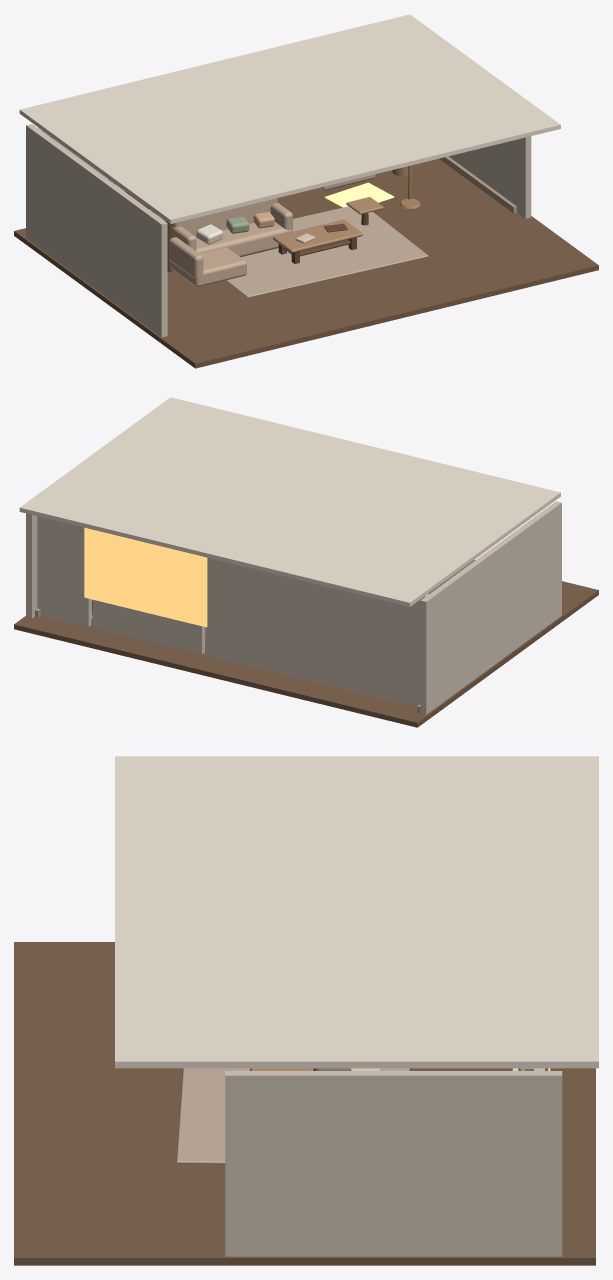
The model's file is warm-lounge-room.desktop.source.glb.
3 views of the same model, one above another, from view 1: azimuth 30°, elevation 25°; view 2: azimuth 150°, elevation 25°; view 3: azimuth 270°, elevation 25° (orthographic). The views are drawn at different scales.
Visible parts, largest first — view 1: Ceiling, Floor, WallCluster, Rug, SofaCluster, CoffeeTable, SunWash, TrimCluster, CoffeeTableCluster; view 2: Ceiling, WallCluster, Floor, SunPanel; view 3: Ceiling, WallCluster, Floor, Rug.
Boxes of the visible parts, bbox=[...] form: Ceiling: bbox=[19, 14, 560, 223]; Floor: bbox=[14, 158, 598, 368]; WallCluster: bbox=[26, 124, 531, 337]; Rug: bbox=[225, 206, 428, 297]; SofaCluster: bbox=[169, 174, 375, 286]; CoffeeTable: bbox=[273, 219, 362, 252]; SunWash: bbox=[324, 182, 394, 207]; TrimCluster: bbox=[108, 156, 516, 213]; CoffeeTableCluster: bbox=[278, 223, 356, 263]; Ceiling: bbox=[19, 397, 560, 606]; WallCluster: bbox=[26, 501, 561, 714]; Floor: bbox=[14, 560, 598, 727]; SunPanel: bbox=[84, 527, 207, 627]; Ceiling: bbox=[115, 756, 598, 1068]; WallCluster: bbox=[225, 1068, 562, 1256]; Floor: bbox=[14, 942, 595, 1265]; Rug: bbox=[176, 1068, 409, 1164].
Size of the model in its own units: 12.2 by 3.79 by 9.55.
